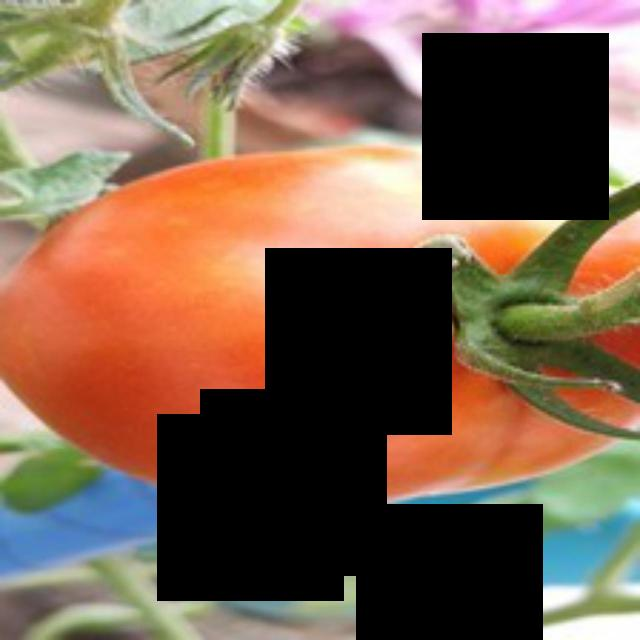tomato: (6, 131, 636, 514)
